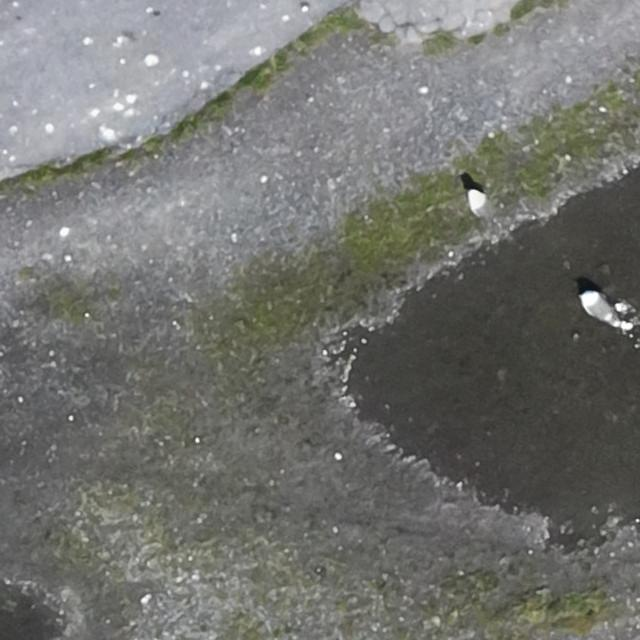umineko: (582, 292, 612, 323), (471, 192, 500, 222)
